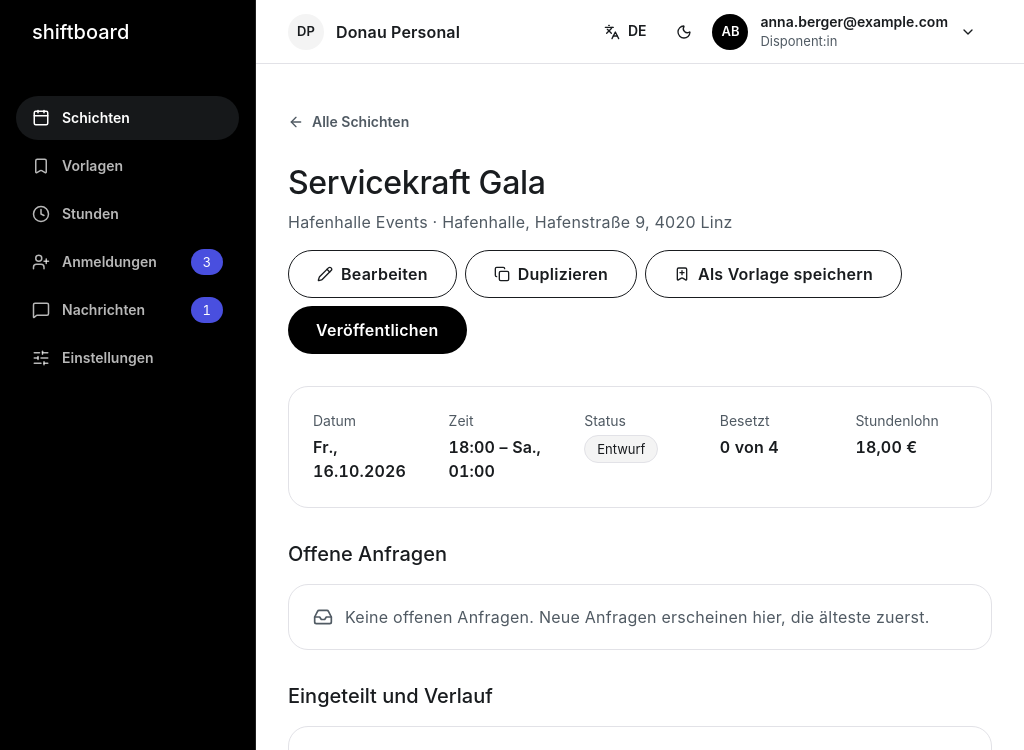
it: shift templates › saving › saves an existing shift from its detail page
The image size is (1024, 750).
Click the button "Als Vorlage speichern". click: [773, 274]
box: top-left (645, 250), bottom-right (902, 298)
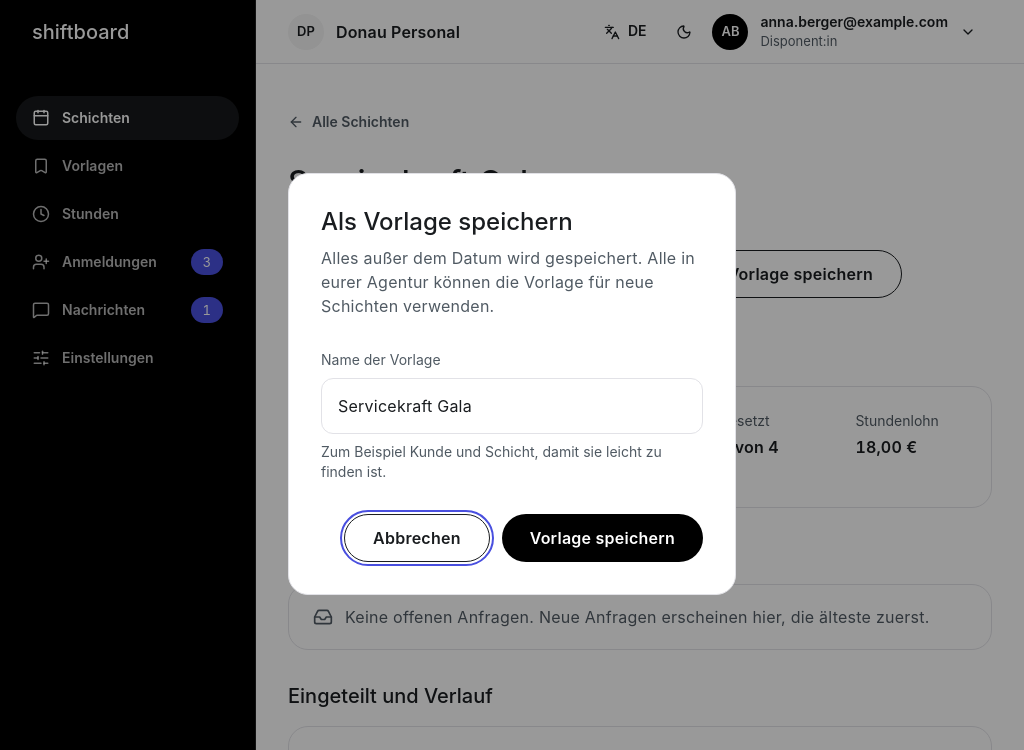
Result: the field labelled "Name der Vorlage" holds "Servicekraft Gala" at top-left (321, 378), bottom-right (703, 434)
Click the button "Vorlage speichern". click: [602, 538]
box: top-left (502, 514), bottom-right (703, 562)
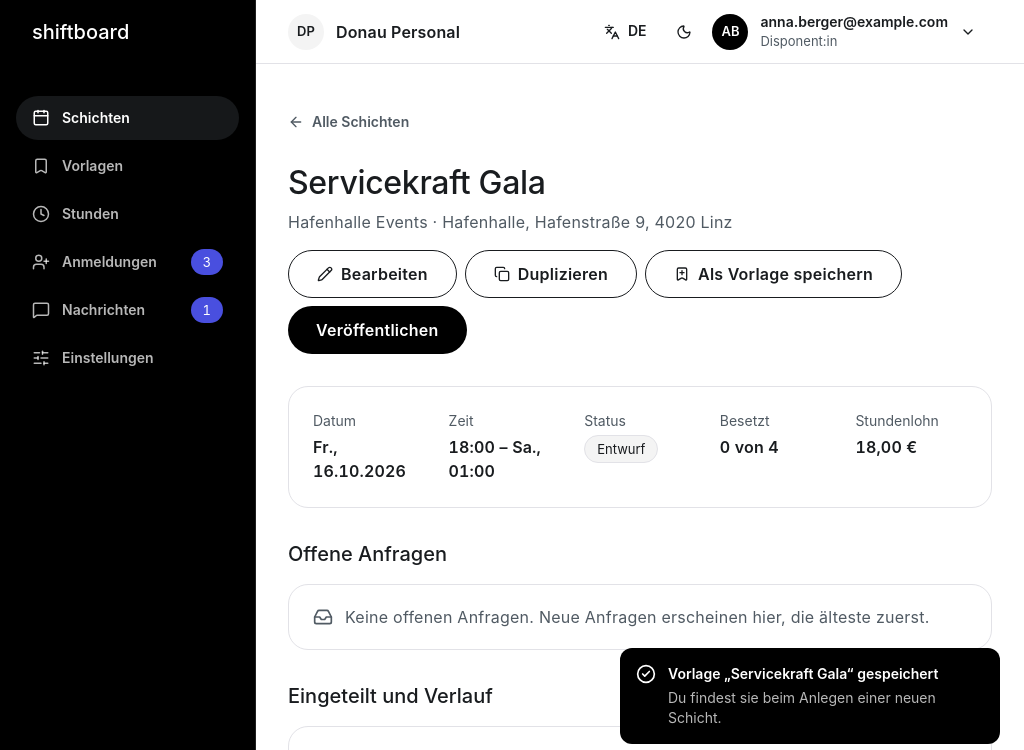
Result: the text "Vorlage „Servicekraft Gala“ gespeichert" is shown at top-left (668, 664), bottom-right (984, 684)
